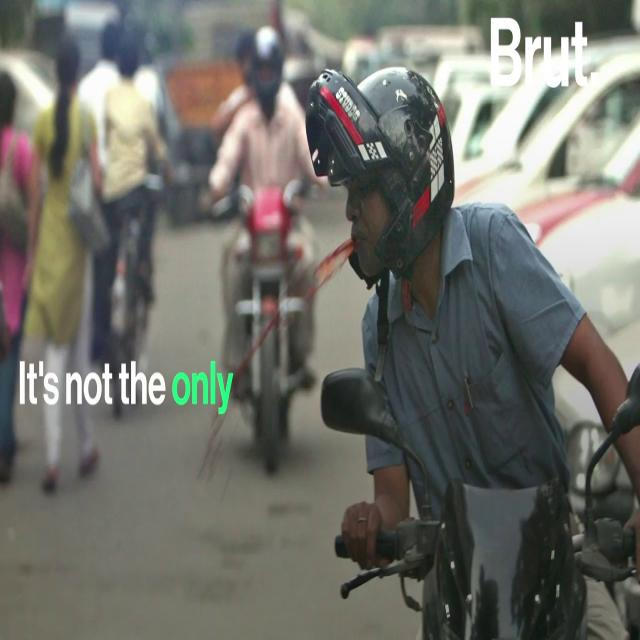spit: (229, 216, 374, 399)
